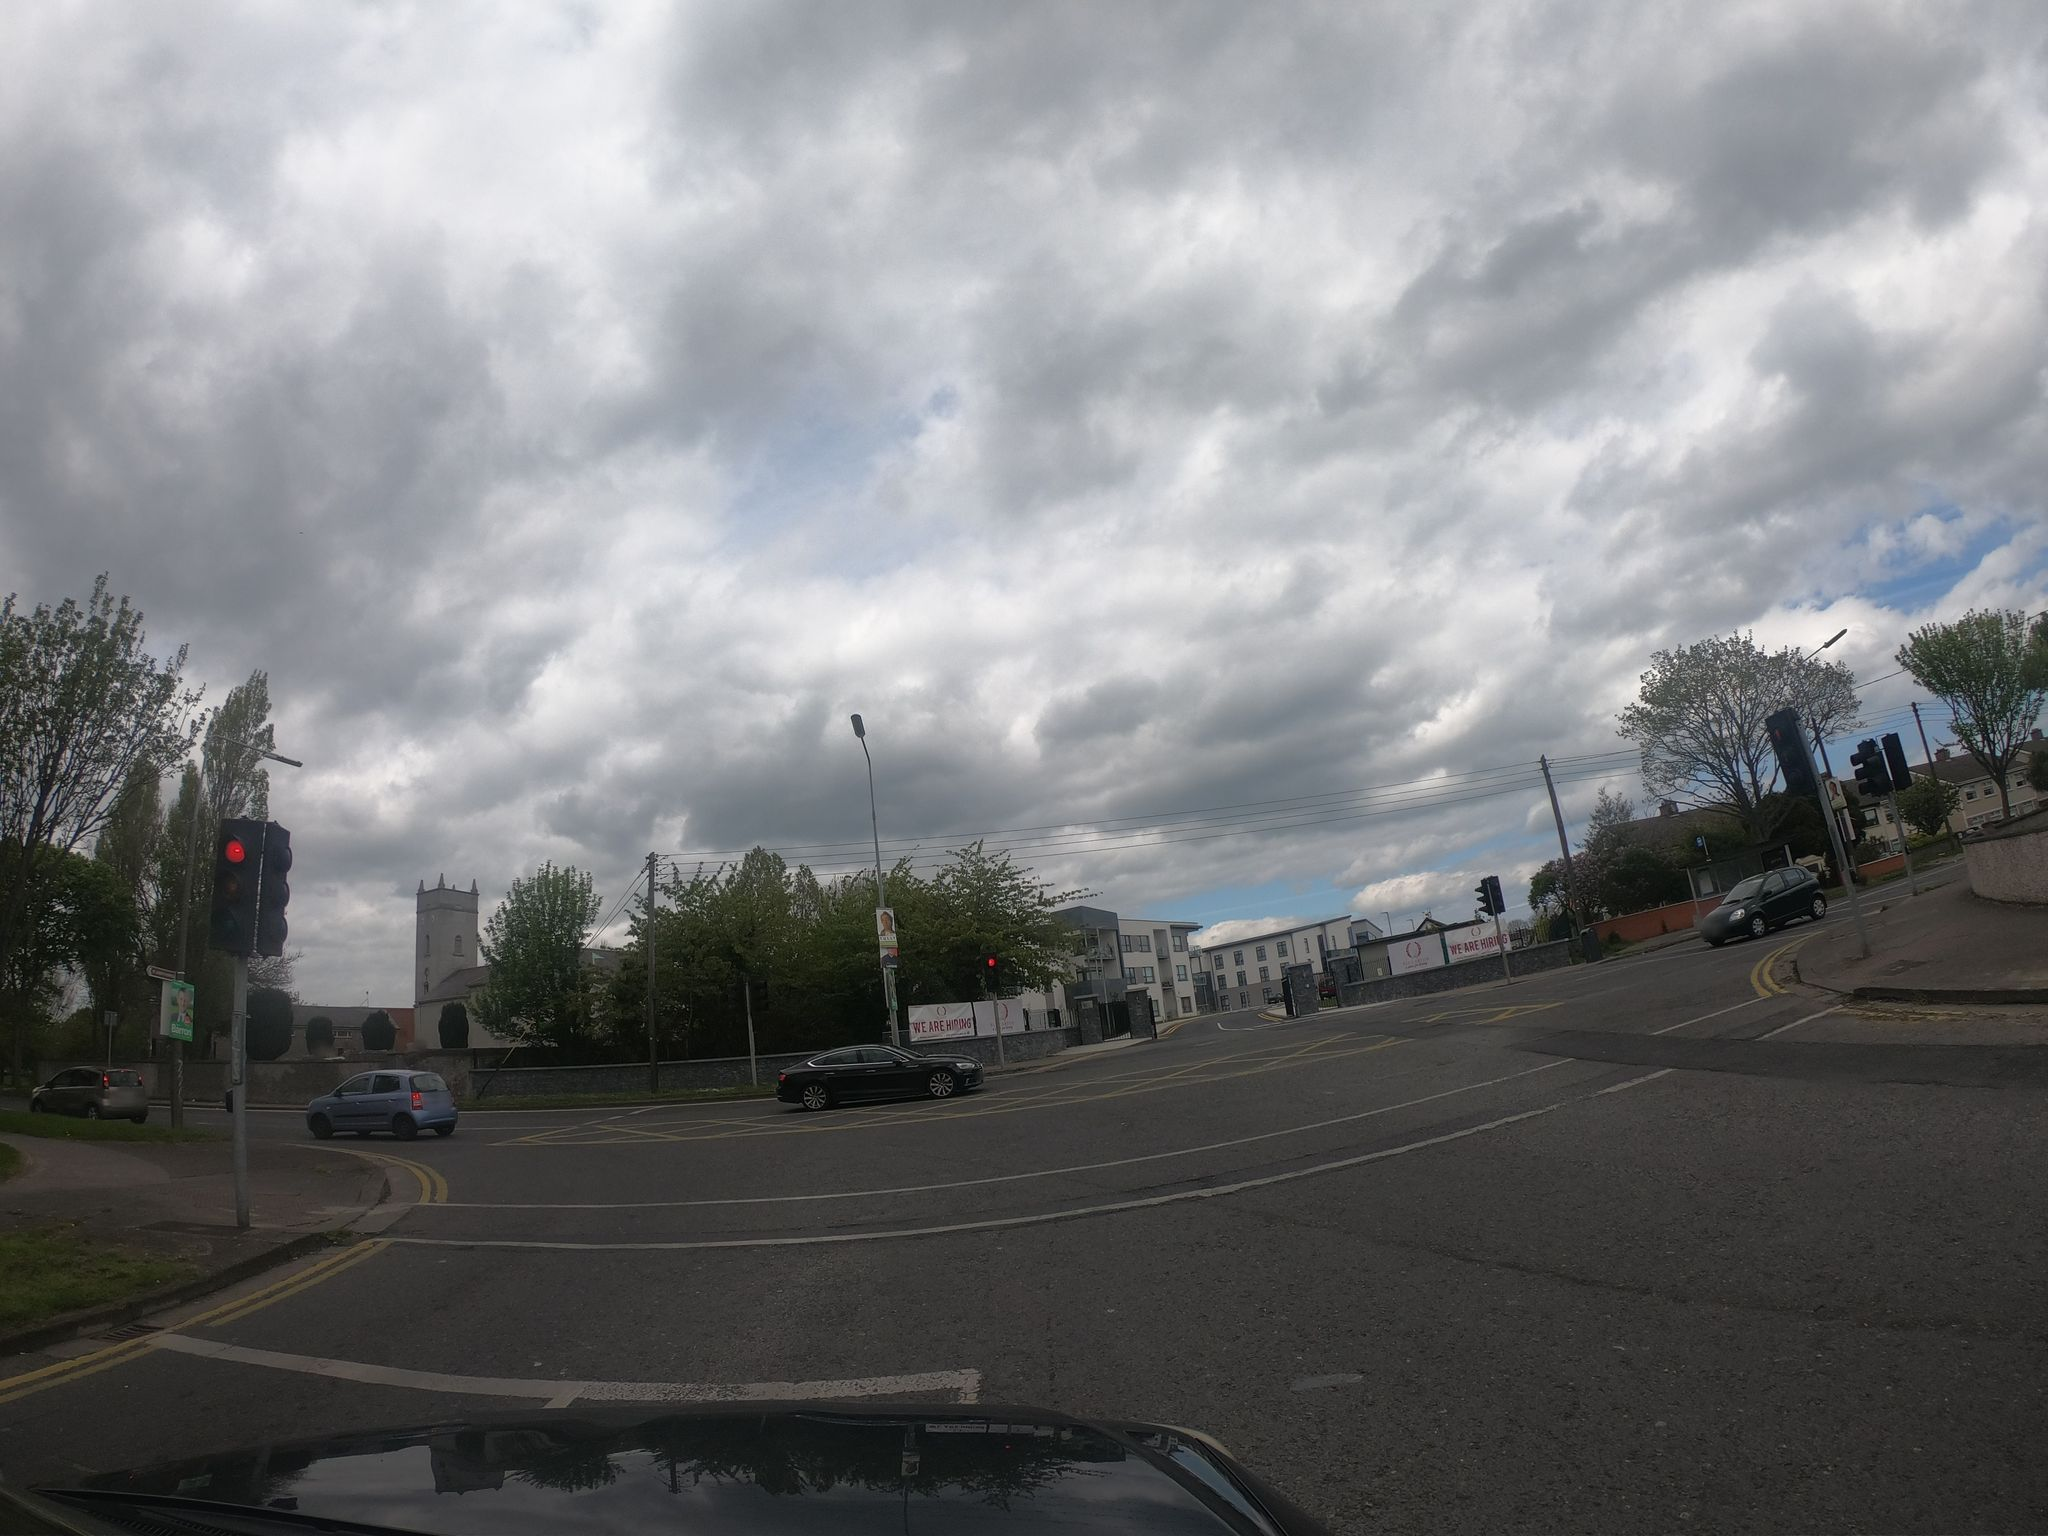vinyl banner: (898, 983, 989, 1041), (1438, 910, 1514, 970)
